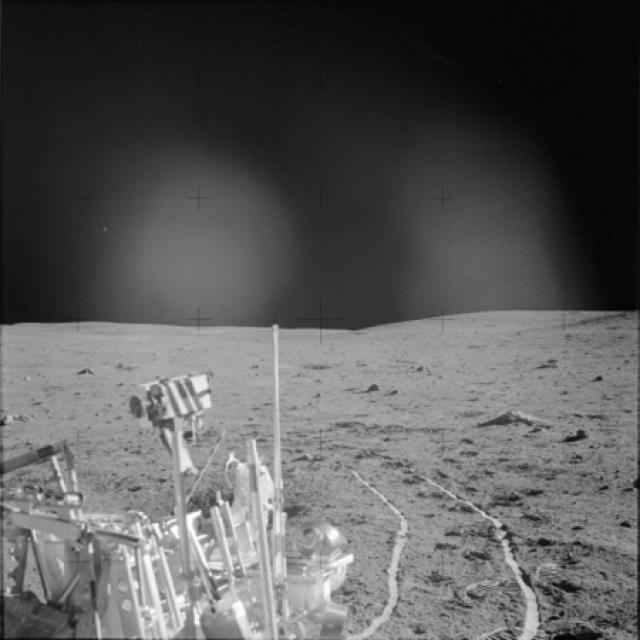artifact: (0, 305, 359, 639)
crater: (273, 356, 343, 377)
rock: (484, 401, 528, 428), (0, 406, 27, 431), (568, 425, 600, 438), (590, 369, 615, 385), (363, 378, 382, 398)
